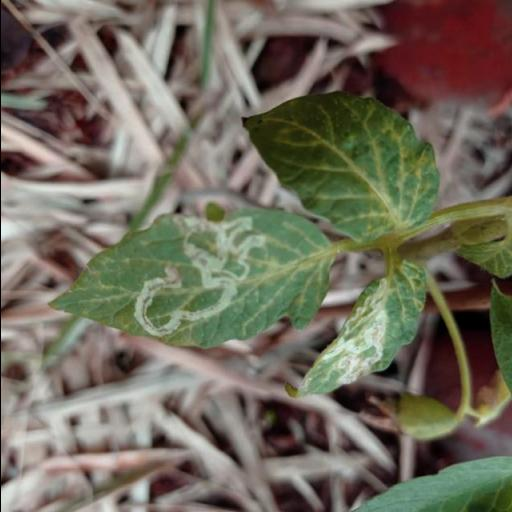Leaf Miner: (48, 199, 330, 349), (281, 256, 431, 402)
